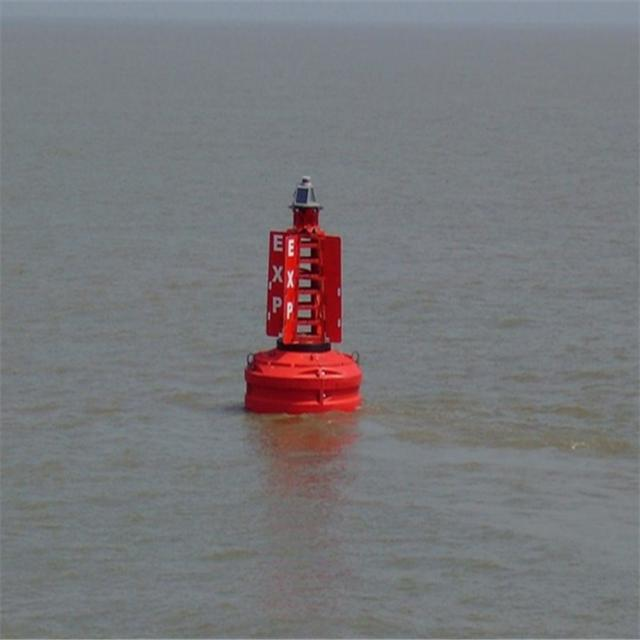buoy: (233, 170, 374, 416)
